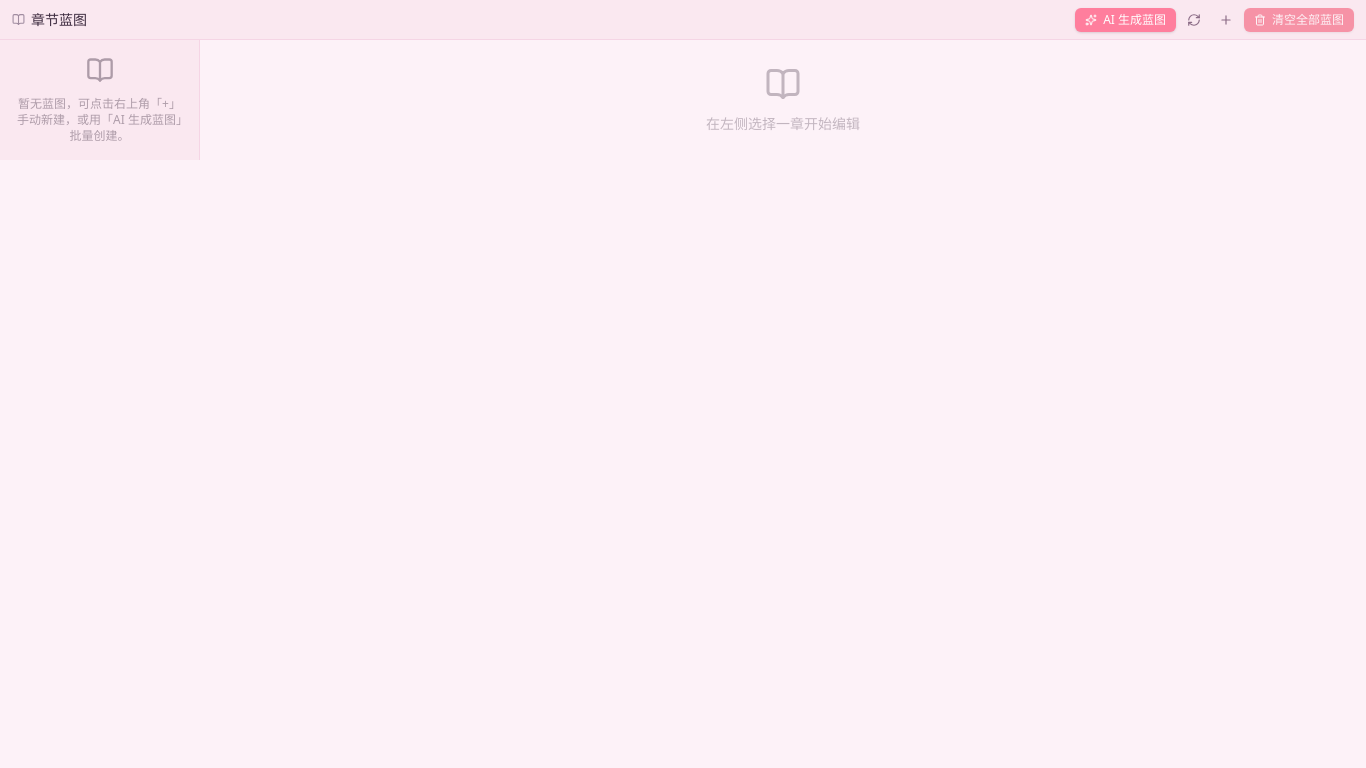
ChapterCardEditor writing entry › creates a manual blueprint at the authoritative next chapter instead of the blueprint maximum
What coordinates should you click on to do the following:
click the button named "新建章节"
I would click on:
 (1226, 20)
Its box is [1212,6,1240,34].
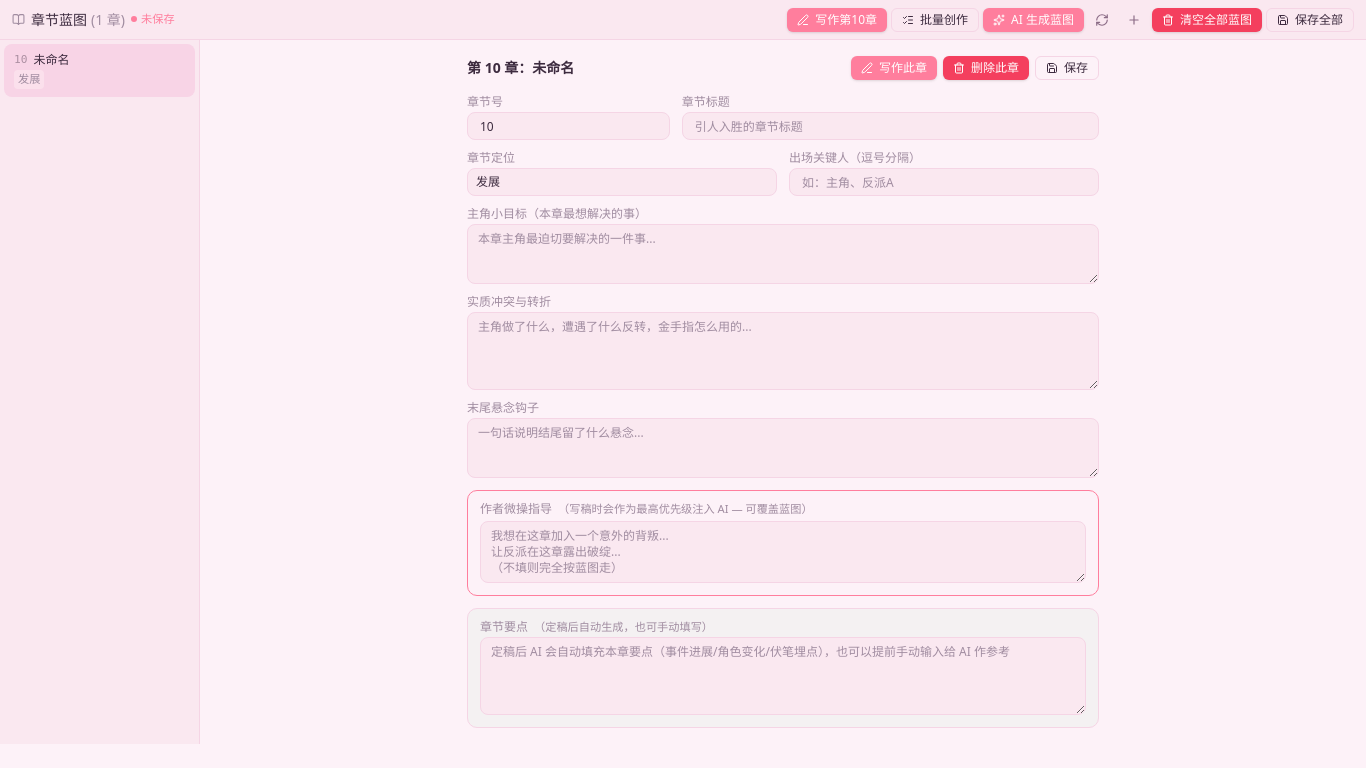
Expected: the text "第 10 章：" is shown, [467,58,574,77]
